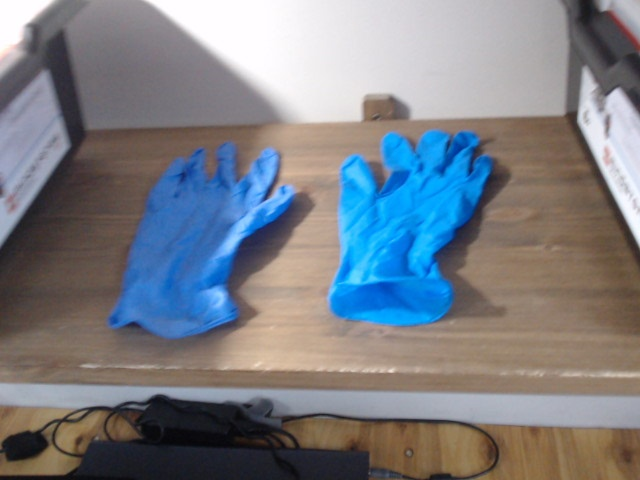medical_glove: (110, 142, 295, 332), (331, 130, 491, 320)
